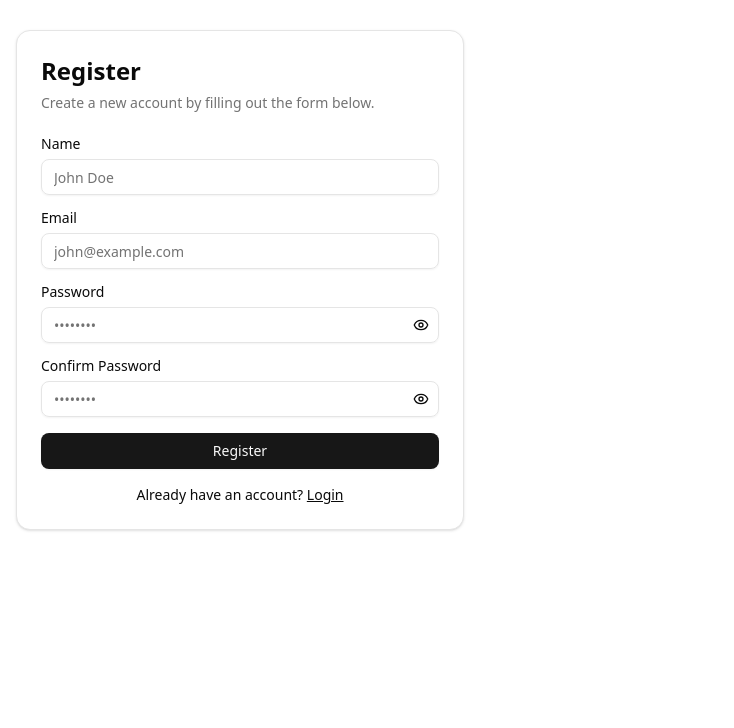
RegisterPage › shows validation error when passwords do not match and prevents navigation
The image size is (734, 728).
Type "newuser" into the field labelled "Name" at (240, 177), box 41,159 -> 439,195
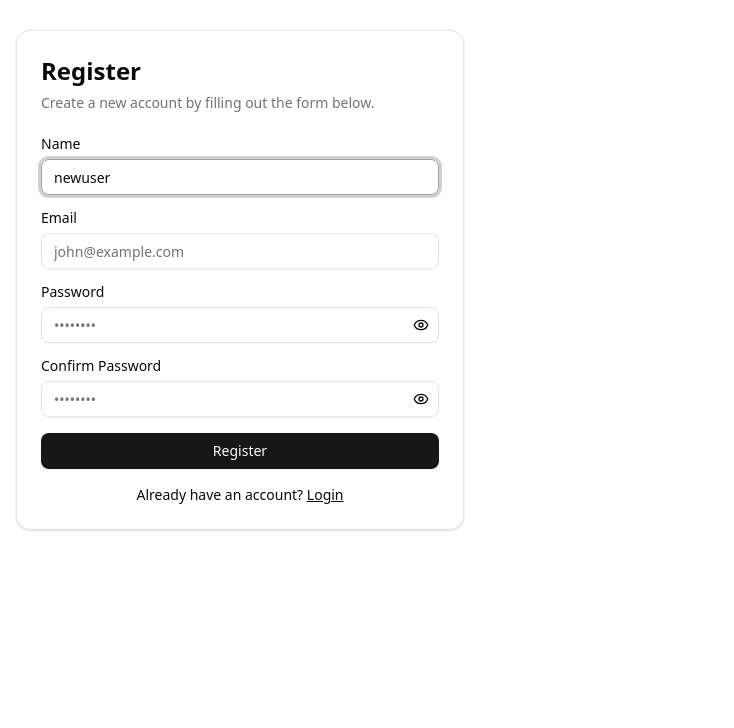
Type "newuser@example.com" into the field labelled "Email" at (240, 251), box 41,233 -> 439,269
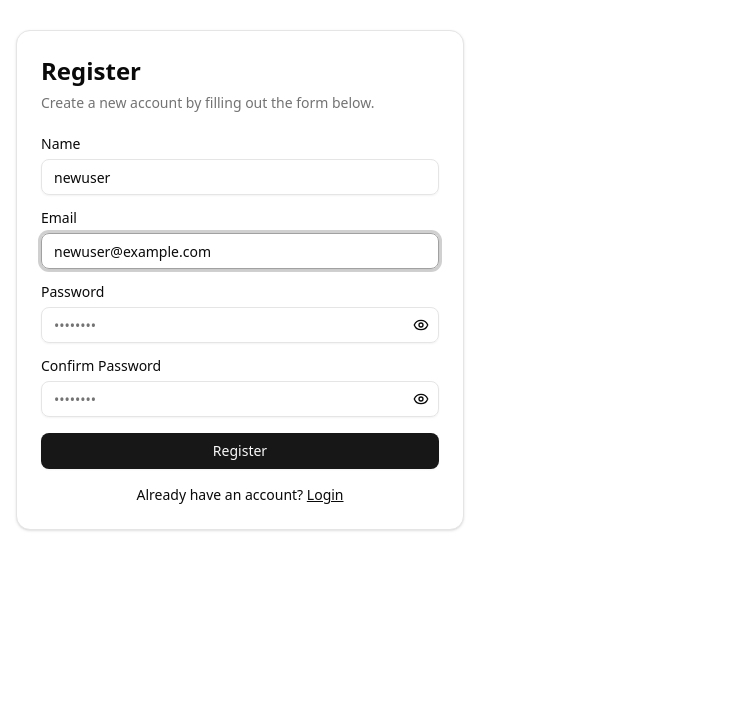
Type "Password123" into the password field labelled "Password" at (240, 325), box 41,307 -> 439,343
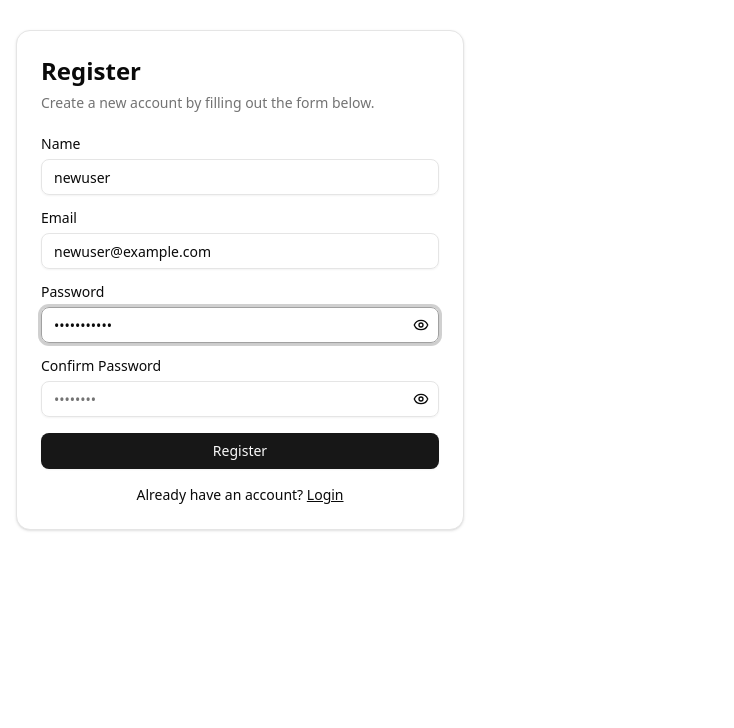
Type "Different123" into the password field labelled "Confirm Password" at (240, 399), box 41,381 -> 439,417
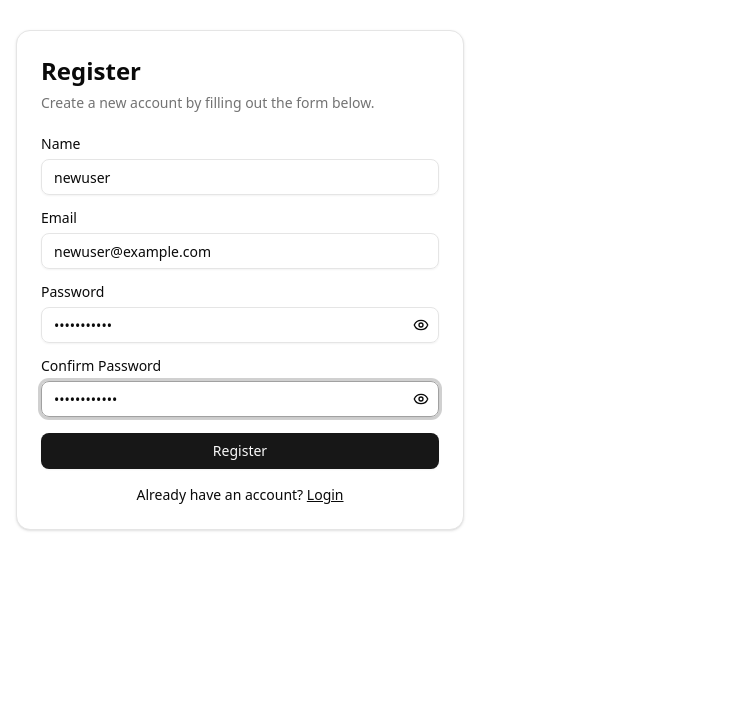
Click the button "Register" at (240, 451), box 41,433 -> 439,469
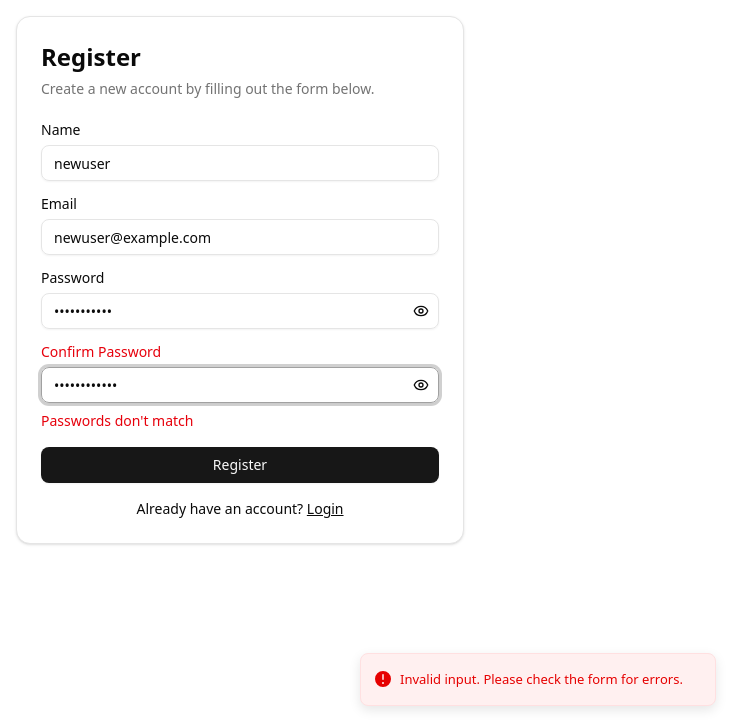
Result: the list item "Invalid input. Please check the form for errors." is shown at 360,652 -> 716,706
Result: the text "Invalid input. Please check the form for errors." is shown at 400,670 -> 683,689
